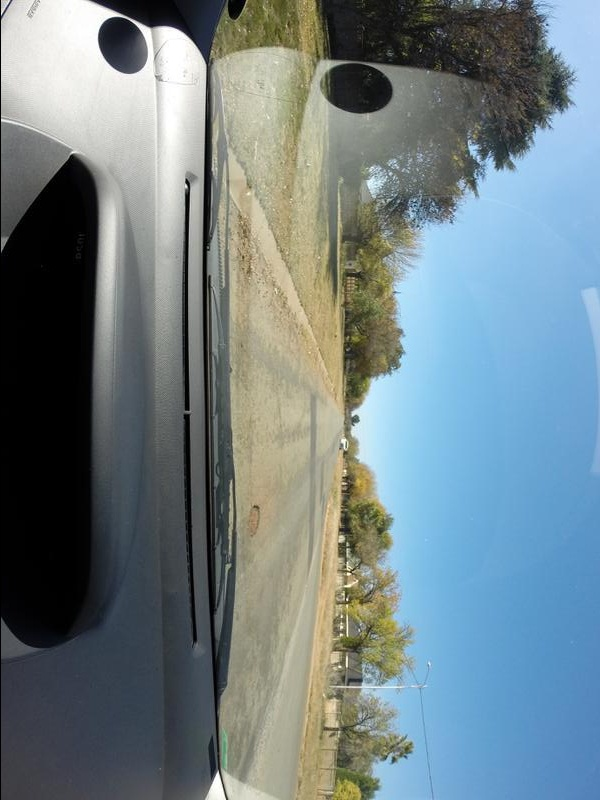pothole: (247, 503, 264, 546)
